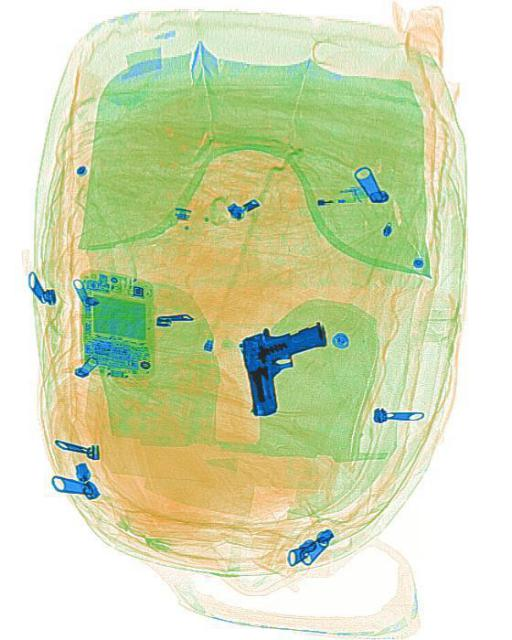Gun: (232, 309, 338, 416)
